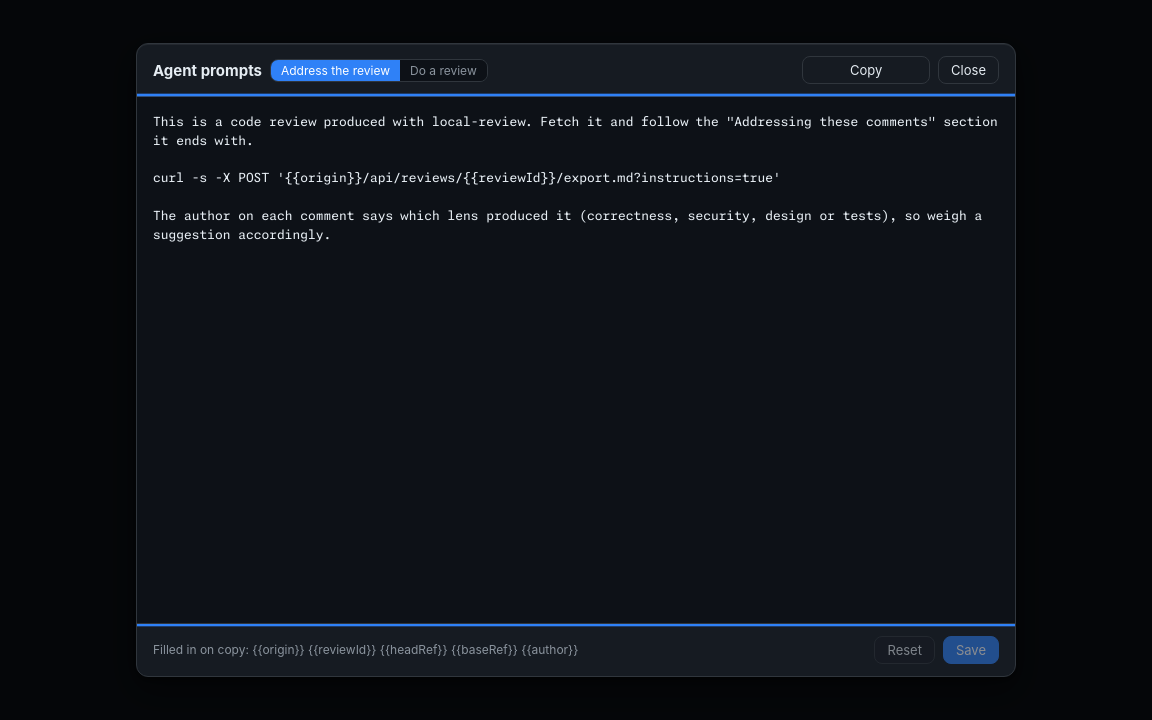
Test case: the focus row appears only for the group that has focuses
Click the button "Do a review" at (443, 70), box [400,60,487,81]
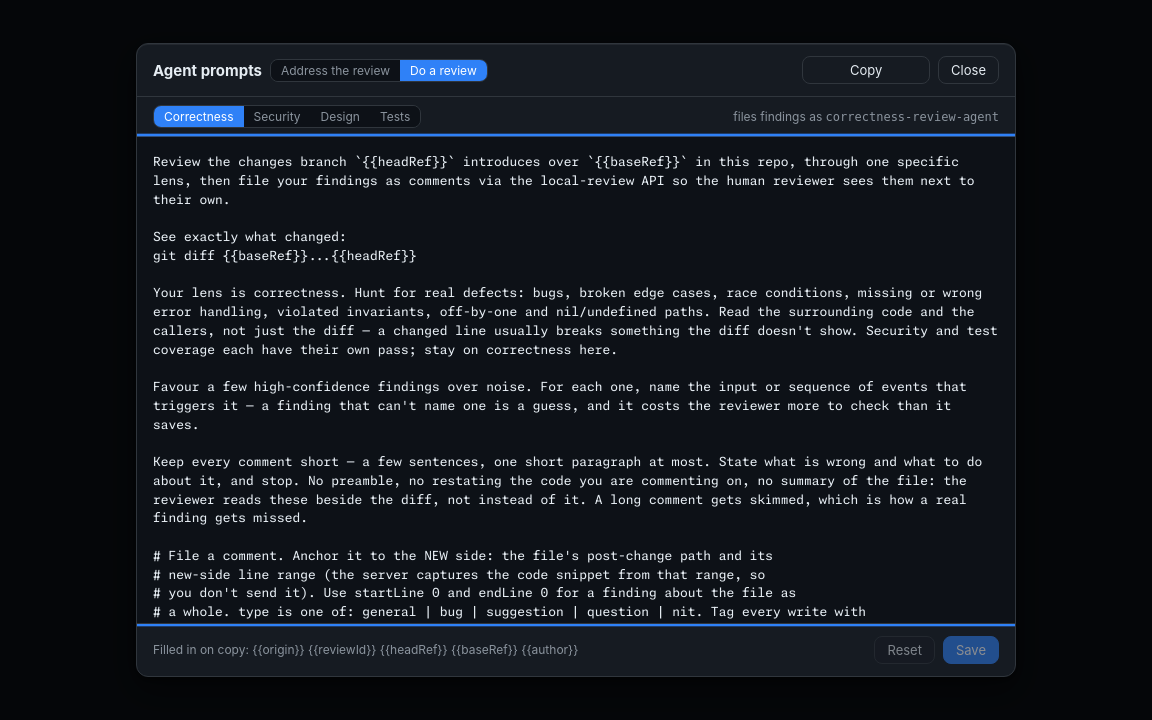
Check: the element named "Review focus" is shown, box [153,105,421,128]
